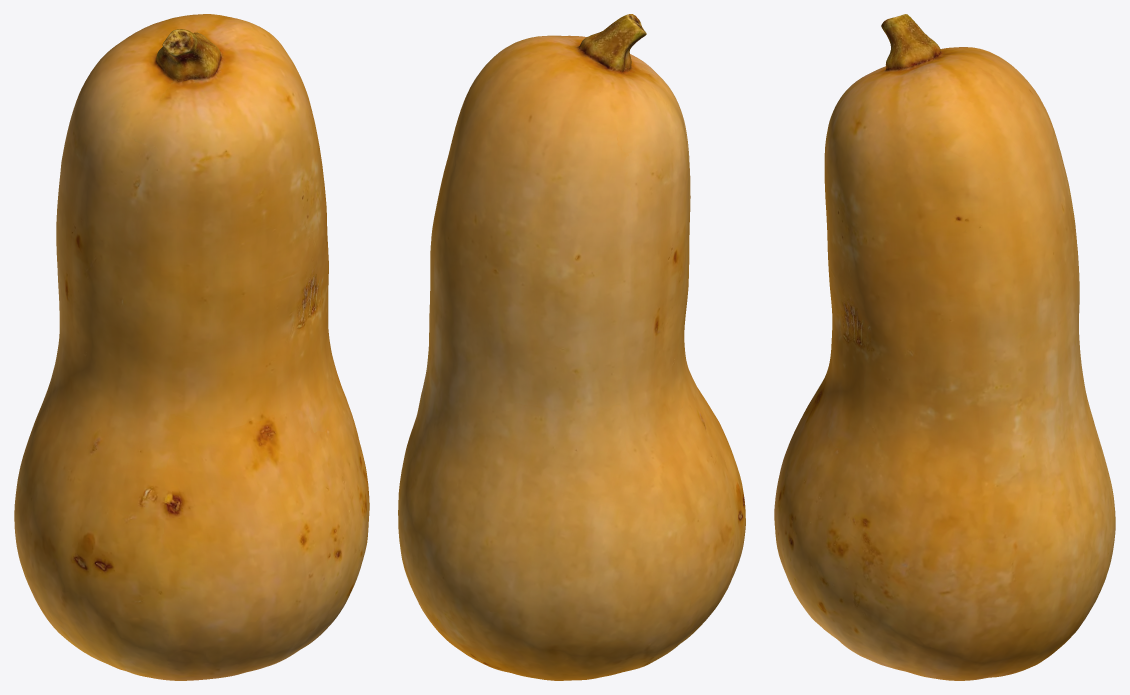
Rendered from papaya-1.glb.
3 renders of one model, left to right at view 1: azimuth 30°, elevation 25°; view 2: azimuth 150°, elevation 25°; view 3: azimuth 270°, elevation 25°, orthographic. The views are drawn at different scales.
Parts seen in each view (by area): view 1: Object_2; view 2: Object_2; view 3: Object_2.
Boxes of the visible parts, x1,y1,x2,y2 form: Object_2: [14, 14, 369, 680]; Object_2: [398, 14, 745, 680]; Object_2: [774, 14, 1115, 680].
Size of the model in its own units: 0.2111 by 0.426 by 0.212.
1 material, 1 textured.
